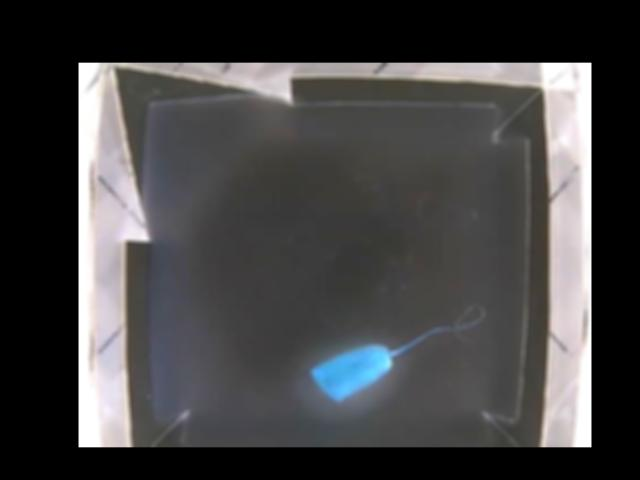Carrot: (311, 342, 399, 399)
